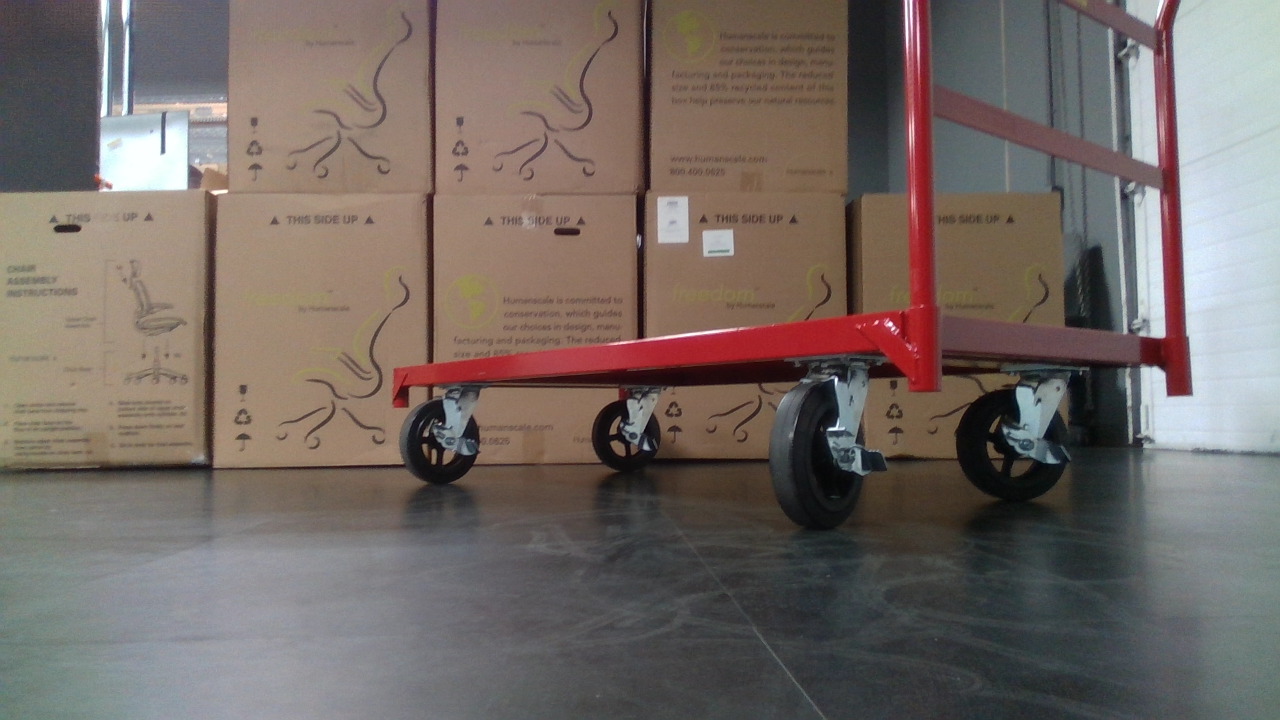Dolly: (376, 0, 1198, 533)
Wheel: (763, 377, 889, 534), (936, 379, 1078, 502), (384, 392, 489, 492), (580, 399, 671, 489)
